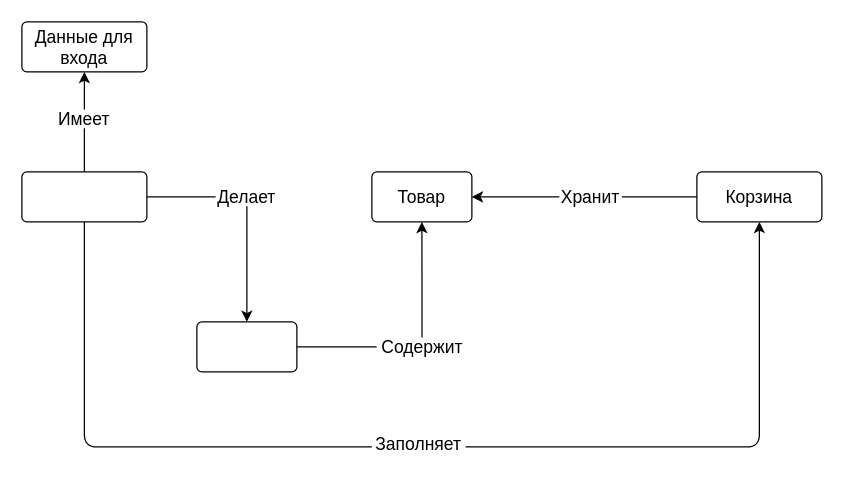
The diagram is 844 pixels wide and 479 high, and some of its shapes have lost their labels. Each missing label, with the centre of its shape:
"Заказ" belongs at point (246, 346).
"Заказчик" belongs at point (84, 196).
